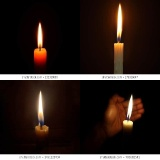fire: (37, 89, 45, 123), (116, 3, 123, 40), (36, 21, 44, 48), (125, 93, 133, 119)
